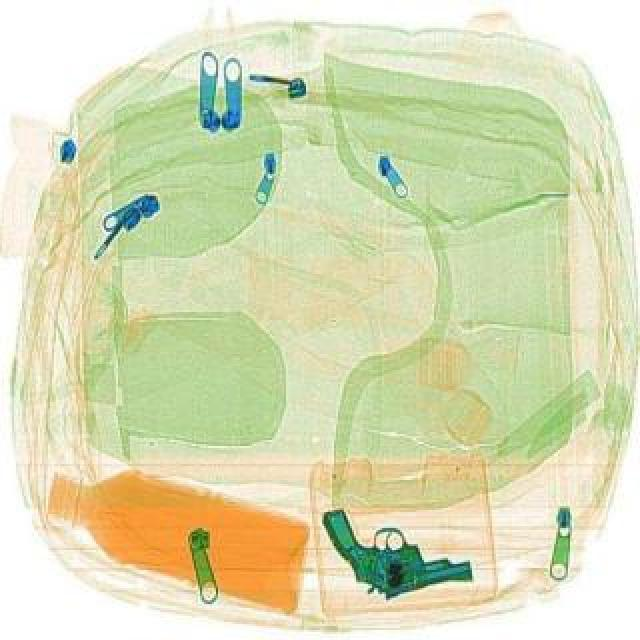gun: (316, 484, 472, 602)
